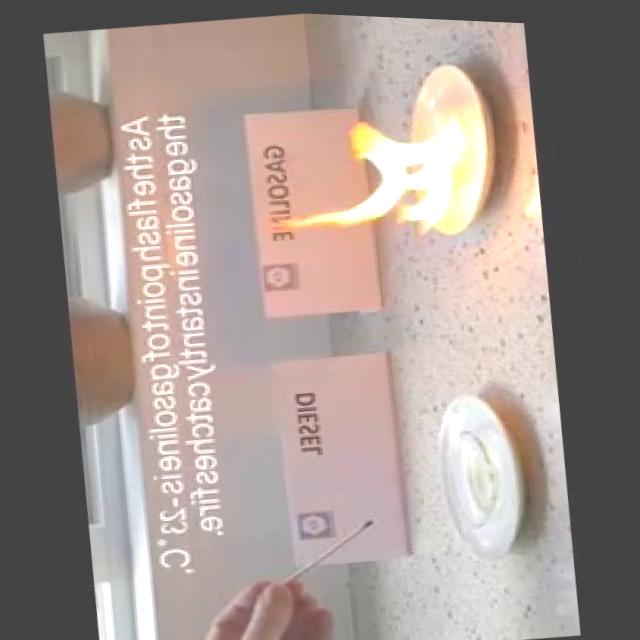Fire: (252, 99, 484, 250)
